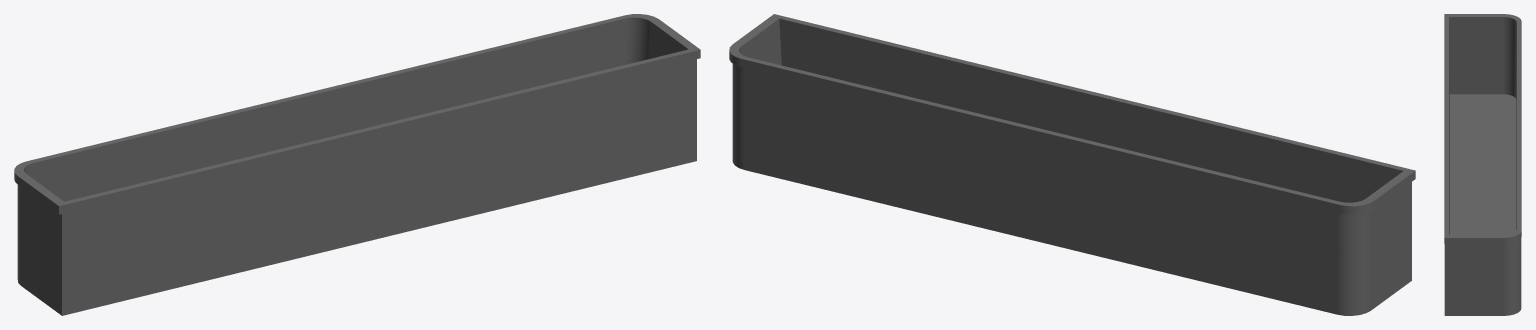
Rendered from fridgePartDoor.fbx.
The picture shows the model from 3 angles, left to right: view 1: azimuth 30°, elevation 25°; view 2: azimuth 150°, elevation 25°; view 3: azimuth 270°, elevation 25°; orthographic projection. The views are drawn at different scales.
Parts seen in each view (by area): view 1: polySurface301; view 2: polySurface301; view 3: polySurface301.
Boxes of the visible parts, x1,y1,x2,y2 form: polySurface301: [14, 14, 700, 315]; polySurface301: [729, 14, 1415, 315]; polySurface301: [1444, 14, 1521, 315].
Size of the model in its own units: 0.8283 by 0.1366 by 0.1212.
